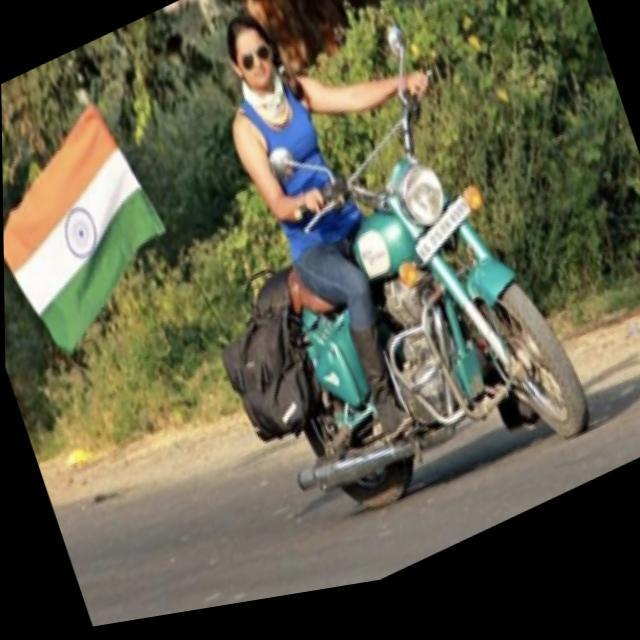Nonhelmet: (222, 1, 283, 106)
